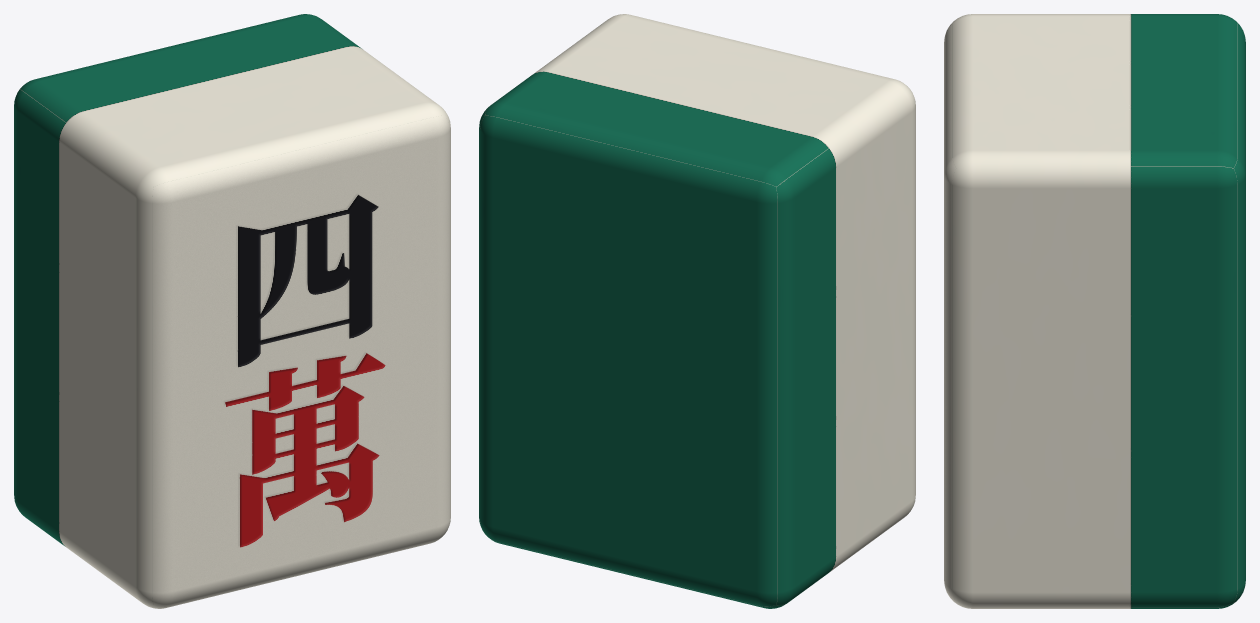
Rendered from tile_4m.obj.
3 views of the same model, side by side, from view 1: azimuth 30°, elevation 25°; view 2: azimuth 150°, elevation 25°; view 3: azimuth 270°, elevation 25° (orthographic). The views are drawn at different scales.
Parts seen in each view (by area): view 1: tile_4m; view 2: tile_4m; view 3: tile_4m.
Boxes of the visible parts, x1,y1,x2,y2 form: tile_4m: (14, 14, 450, 608); tile_4m: (479, 14, 915, 608); tile_4m: (944, 14, 1245, 608).
Size of the model in its own units: 0.026 by 0.035 by 0.021.
1 material, 1 textured.
